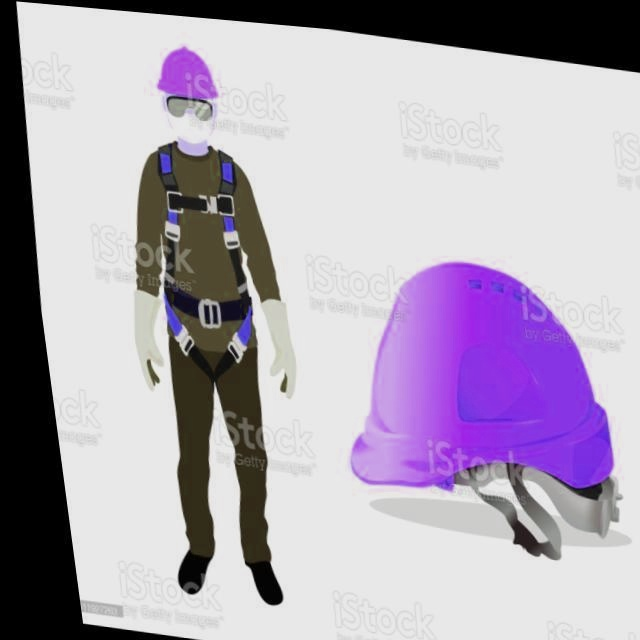safety belt: (136, 143, 262, 388)
